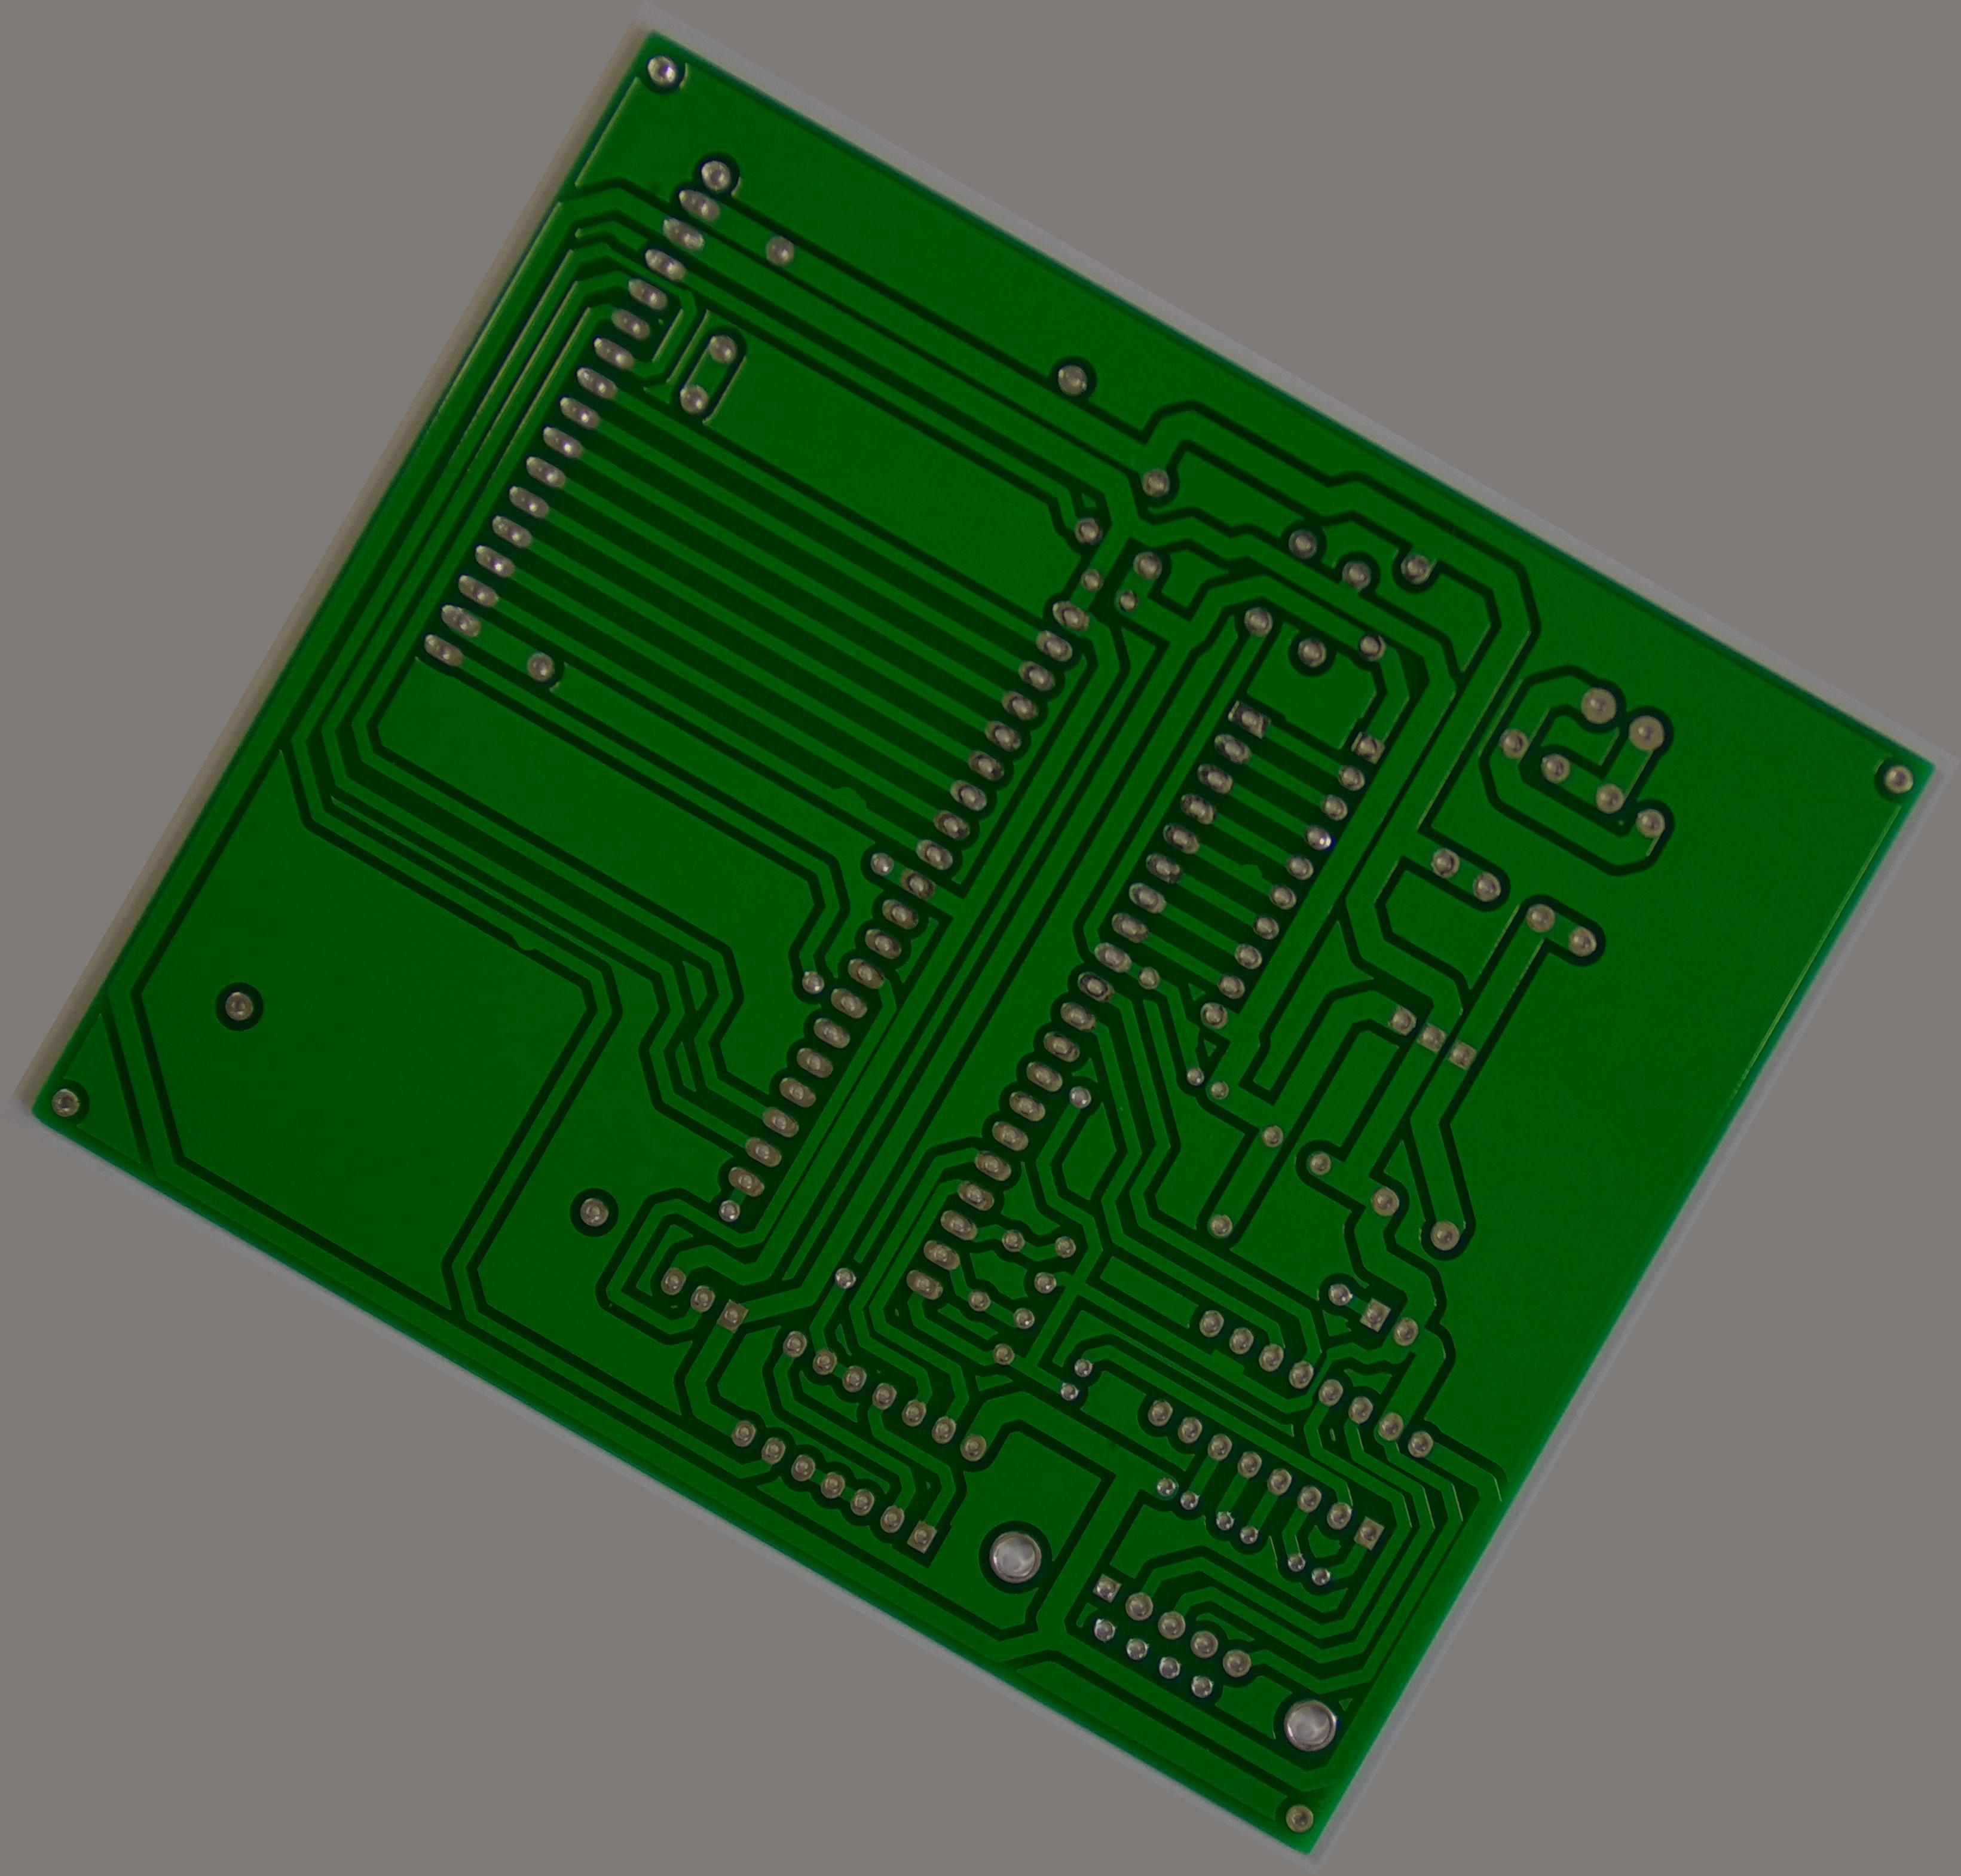spur: (818, 770, 882, 826), (1161, 1006, 1217, 1059), (1201, 1339, 1254, 1384), (499, 917, 548, 964), (1227, 847, 1276, 891)
